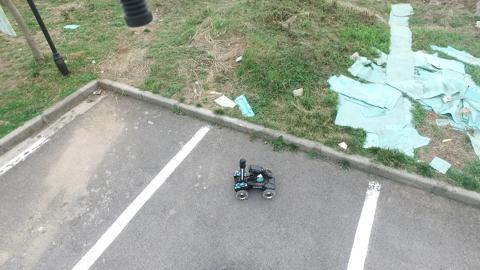chariot: (226, 153, 285, 206)
